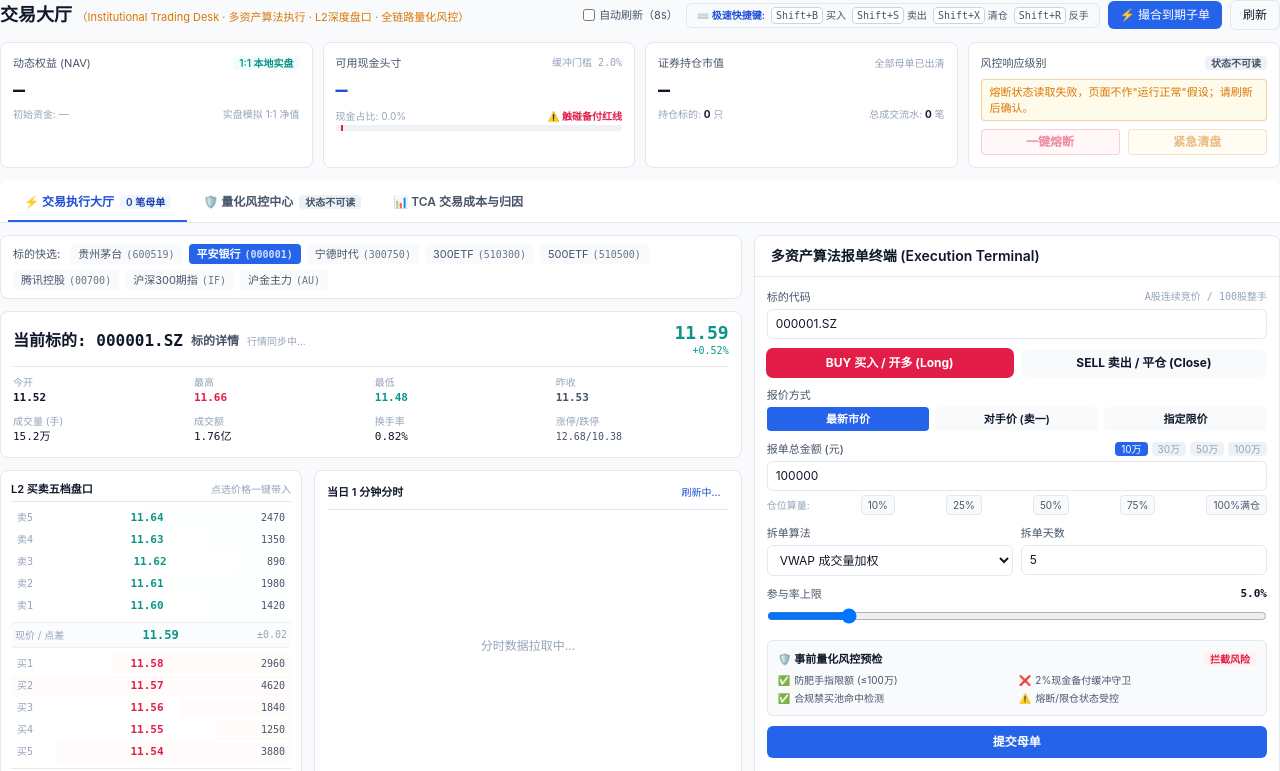
Test case: OrderDesk 投研联动闭环 › 支持 Tab 切换至量化风控中心与 TCA 交易成本归因
切换至量化风控中心
Click the button "🛡️ 量化风控中心 状态不可读" at (282, 203), box [187,184,377,222]
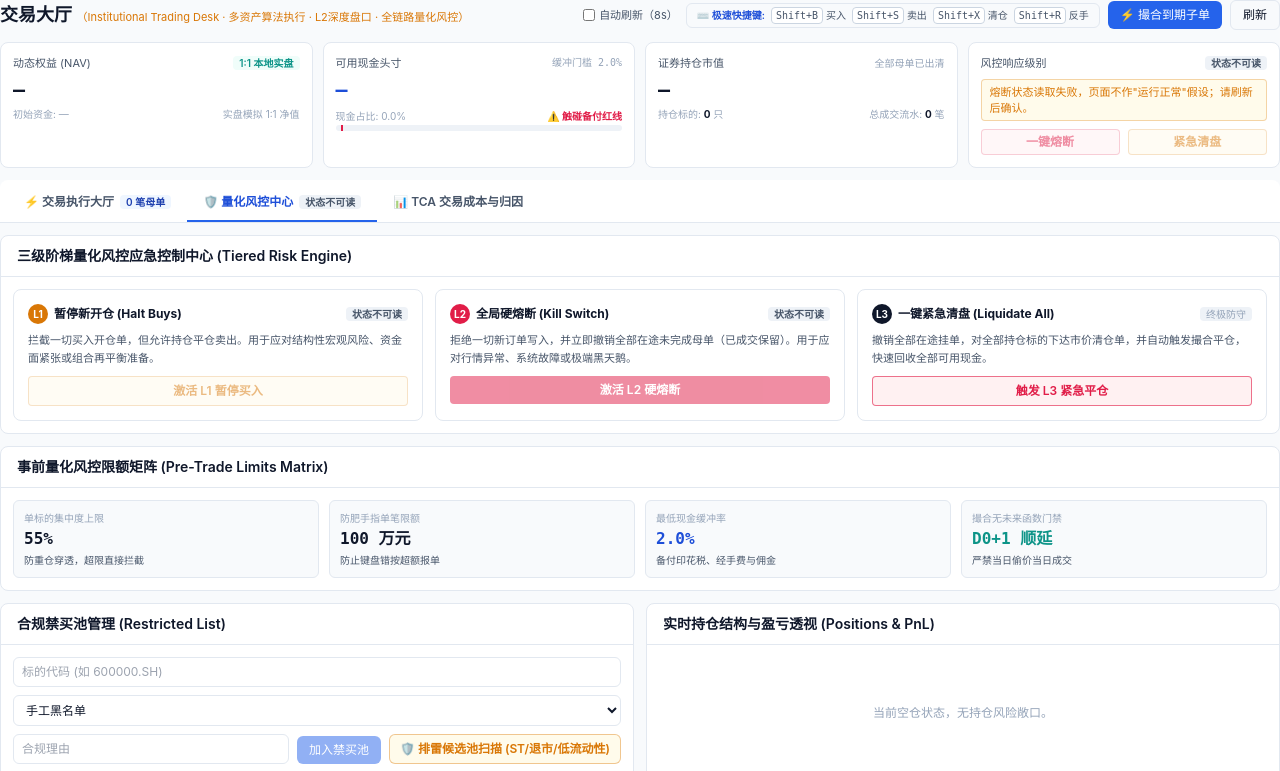
Expected: the heading "三级阶梯量化风控应急控制中心 (Tiered Risk Engine)" is shown, [17,246,352,266]
Expected: the heading "事前量化风控限额矩阵 (Pre-Trade Limits Matrix)" is shown, [17,457,328,477]
Expected: the text "单标的集中度上限" is shown, [24,512,104,524]
切换至 TCA 成本归因
Click the button "📊 TCA 交易成本与归因" at (458, 203), box [377,184,539,222]
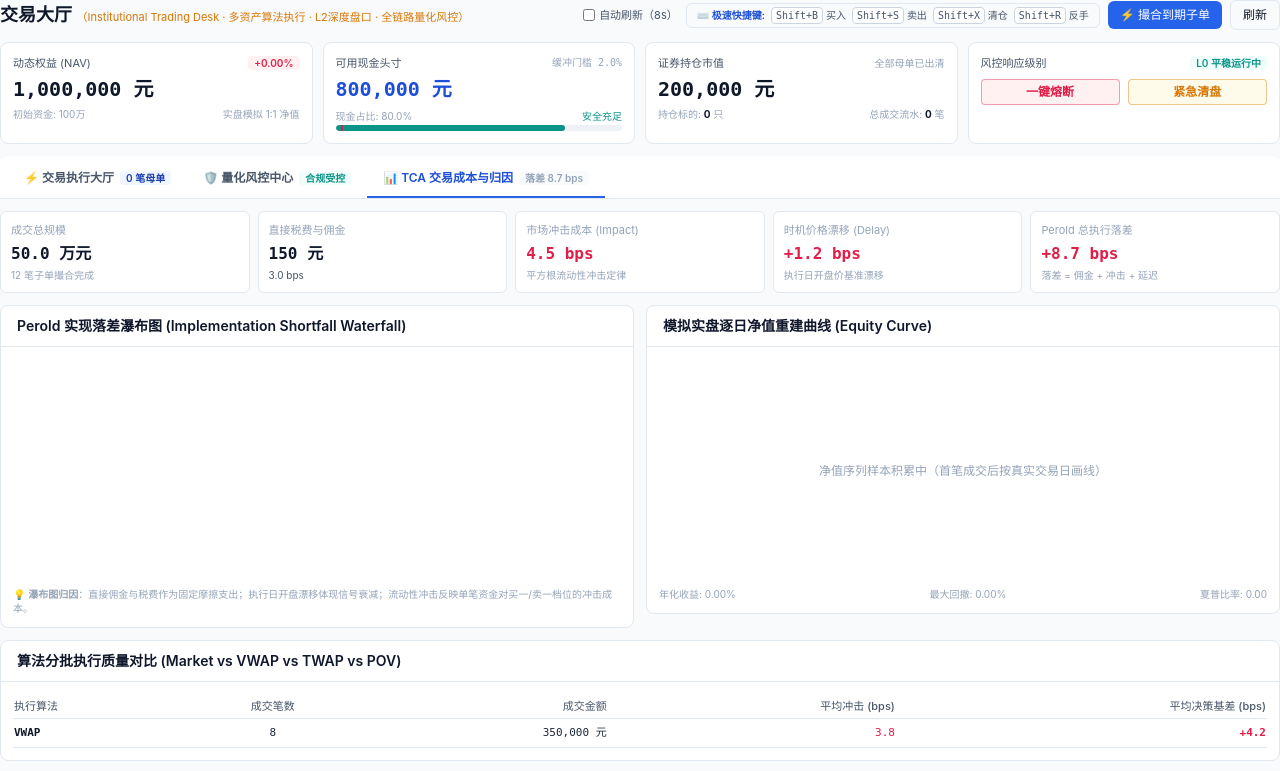
Expected: the text "Perold 总执行落差" is shown, [1041,223,1133,237]
Expected: the heading "算法分批执行质量对比 (Market vs VWAP vs TWAP vs POV)" is shown, [17,651,402,671]
Expected: the text "vwap" is shown, [13,718,186,748]
